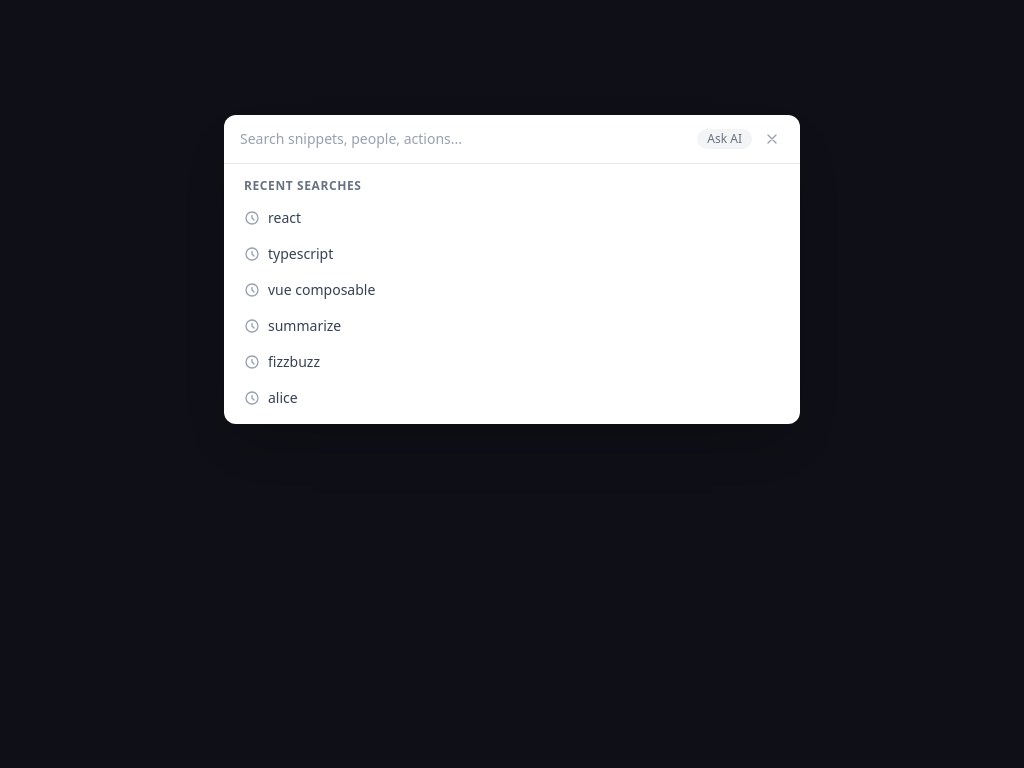
Test: TheSearchModal › handleSelect does nothing when results are null
Step 1. Type "react" into the field with placeholder "Search snippets, people, actions..." → (465, 139), box [240,129,689,149]
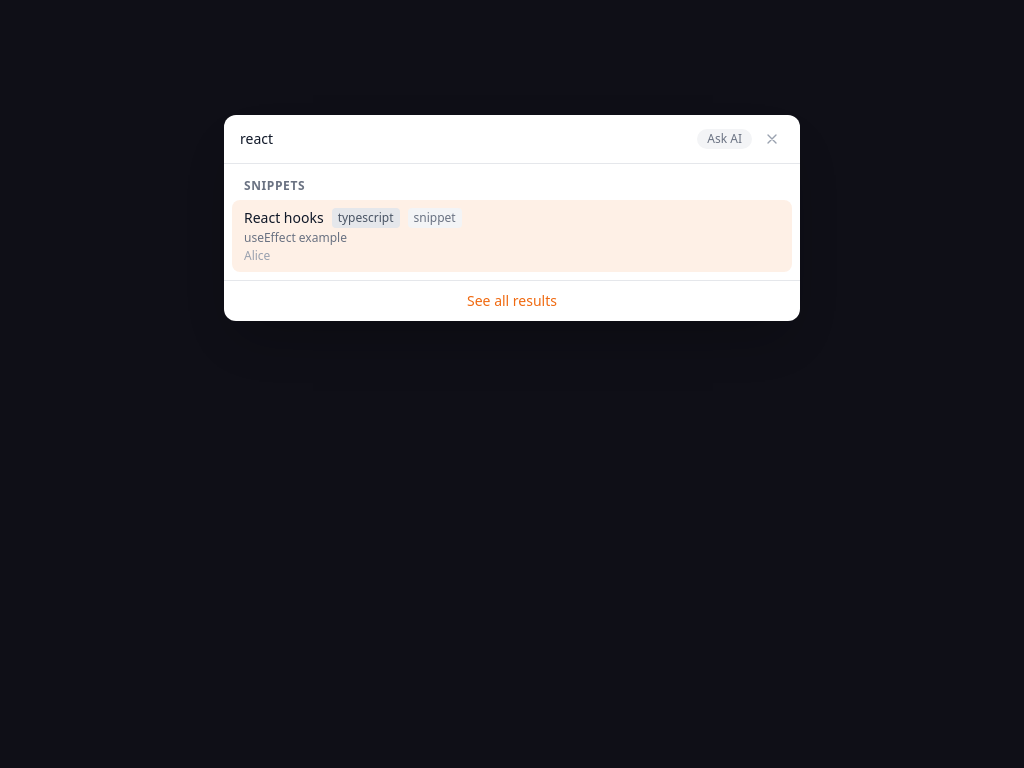
Result: the element that starts with "Snippets" is shown at [232,172,792,272]
